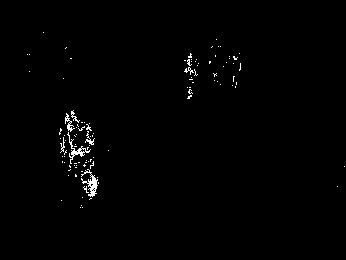person: (55, 110, 101, 198), (183, 51, 199, 100)
